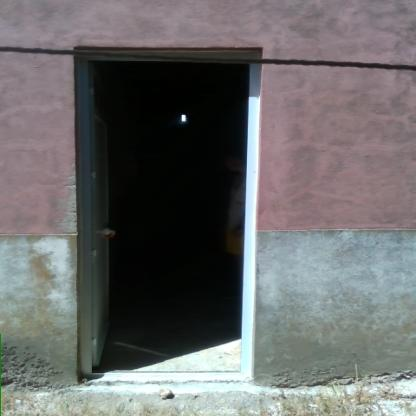open: (65, 46, 276, 392)
